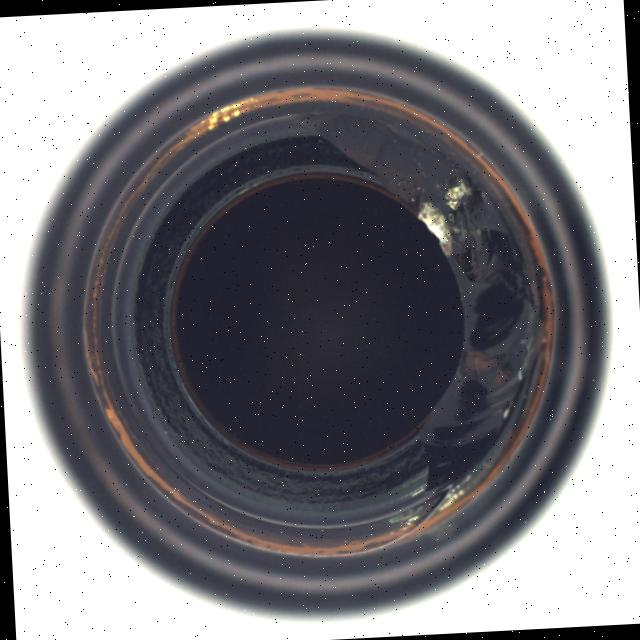broken_large: (296, 92, 561, 506)
